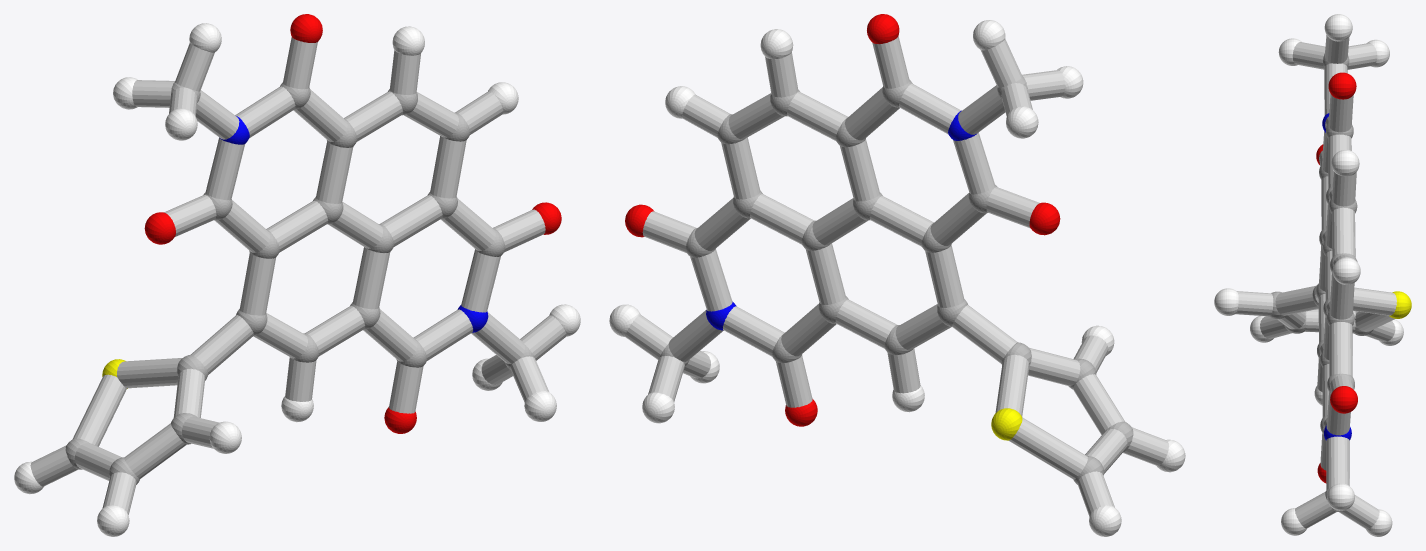
The model's file is Dimethyl_Naphthalene_Dicarboximide_Phi_10_Theta_270_Thiophene.glb.
3 views of the same model, side by side, from view 1: azimuth 30°, elevation 25°; view 2: azimuth 150°, elevation 25°; view 3: azimuth 270°, elevation 25° (orthographic). The views are drawn at different scales.
Parts seen in each view (by area): view 1: grp14119, grp7241, grp1, grp12309, grp11585; view 2: grp14119, grp7241, grp1, grp12309, grp13757, grp11585; view 3: grp14119, grp7241, grp1, grp12309, grp13757.
Part boxes in pixels (<box>): grp14119: <box>30,37,566,514</box>; grp7241: <box>14,23,580,536</box>; grp1: <box>65,82,534,484</box>; grp12309: <box>144,14,561,433</box>; grp11585: <box>220,116,488,332</box>; grp14119: <box>625,36,1168,516</box>; grp7241: <box>609,20,1185,536</box>; grp1: <box>660,76,1133,484</box>; grp12309: <box>625,14,1060,426</box>; grp13757: <box>991,408,1022,440</box>; grp11585: <box>706,110,977,330</box>; grp14119: <box>1235,35,1396,529</box>; grp7241: <box>1214,14,1403,536</box>; grp1: <box>1269,53,1373,511</box>; grp12309: <box>1316,72,1357,483</box>; grp13757: <box>1389,291,1411,318</box>.
Size of the model in its own units: 11.35 by 9.28 by 4.23.
